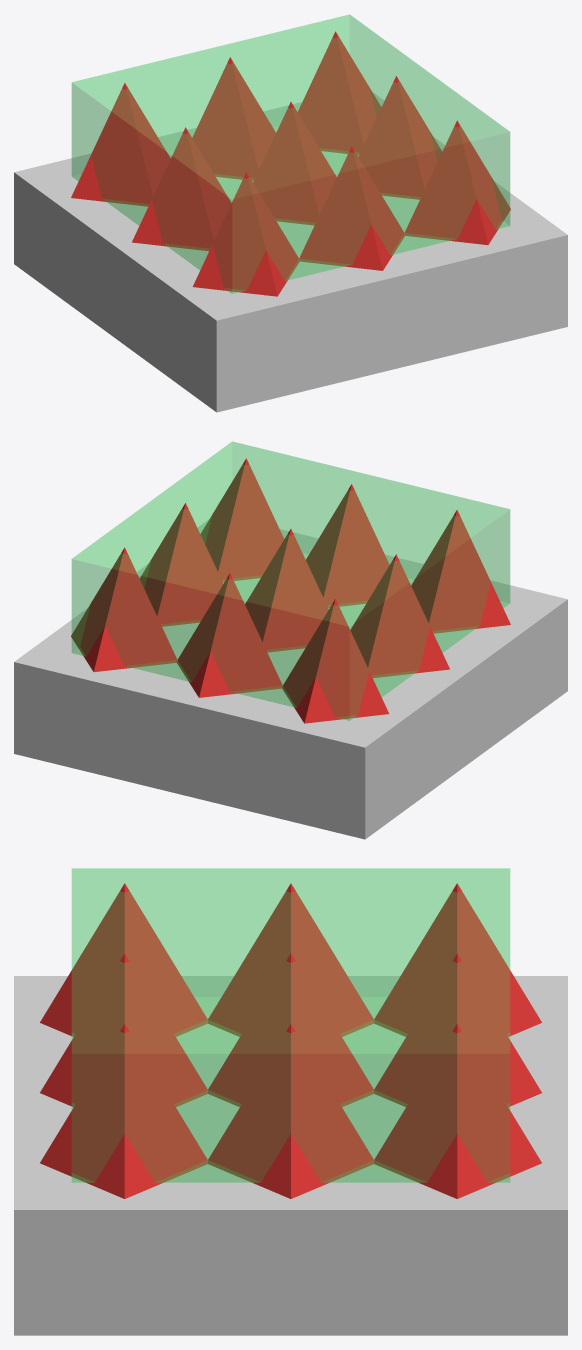
Rendered from spikebox.gltf.
3 renders of one model, top to bottom at view 1: azimuth 30°, elevation 25°; view 2: azimuth 150°, elevation 25°; view 3: azimuth 270°, elevation 25°, orthographic. The views are drawn at different scales.
Visible parts, largest first — view 1: COL_SpikeAttack, Spikeの土台, 円錐.006, 円錐.007, 円錐.008, 円錐.003, 円錐, 円錐.004, 円錐.005, 円錐.001, 円錐.002; view 2: COL_SpikeAttack, Spikeの土台, 円錐, 円錐.001, 円錐.002, 円錐.003, 円錐.006, 円錐.004, 円錐.005, 円錐.007, 円錐.008; view 3: COL_SpikeAttack, Spikeの土台, 円錐.002, 円錐.008, 円錐.005, 円錐, 円錐.006, 円錐.001, 円錐.007, 円錐.004, 円錐.003.
Boxes of the visible parts, x1,y1,x2,y2 form: COL_SpikeAttack: [71, 14, 510, 293]; Spikeの土台: [14, 92, 567, 412]; 円錐.006: [192, 172, 299, 296]; 円錐.007: [299, 146, 404, 270]; 円錐.008: [404, 120, 510, 245]; 円錐.003: [132, 127, 231, 251]; 円錐: [71, 83, 170, 206]; 円錐.004: [253, 102, 336, 225]; 円錐.005: [358, 76, 441, 199]; 円錐.001: [192, 57, 275, 180]; 円錐.002: [297, 31, 381, 155]; COL_SpikeAttack: [71, 441, 510, 720]; Spikeの土台: [14, 519, 567, 839]; 円錐: [282, 599, 389, 723]; 円錐.001: [177, 573, 282, 697]; 円錐.002: [71, 547, 177, 672]; 円錐.003: [350, 554, 449, 678]; 円錐.006: [411, 510, 510, 633]; 円錐.004: [245, 529, 328, 652]; 円錐.005: [140, 503, 223, 626]; 円錐.007: [306, 484, 389, 607]; 円錐.008: [200, 458, 284, 582]; COL_SpikeAttack: [71, 868, 510, 1182]; Spikeの土台: [14, 976, 567, 1335]; 円錐.002: [374, 1024, 541, 1198]; 円錐.008: [40, 1024, 207, 1198]; 円錐.005: [208, 1024, 373, 1198]; 円錐: [374, 883, 541, 1036]; 円錐.006: [40, 883, 207, 1036]; 円錐.001: [374, 953, 541, 1106]; 円錐.007: [40, 953, 207, 1106]; 円錐.004: [208, 954, 373, 1106]; 円錐.003: [208, 883, 373, 1036].
Size of the model in its own units: 2 by 1.06 by 2.
